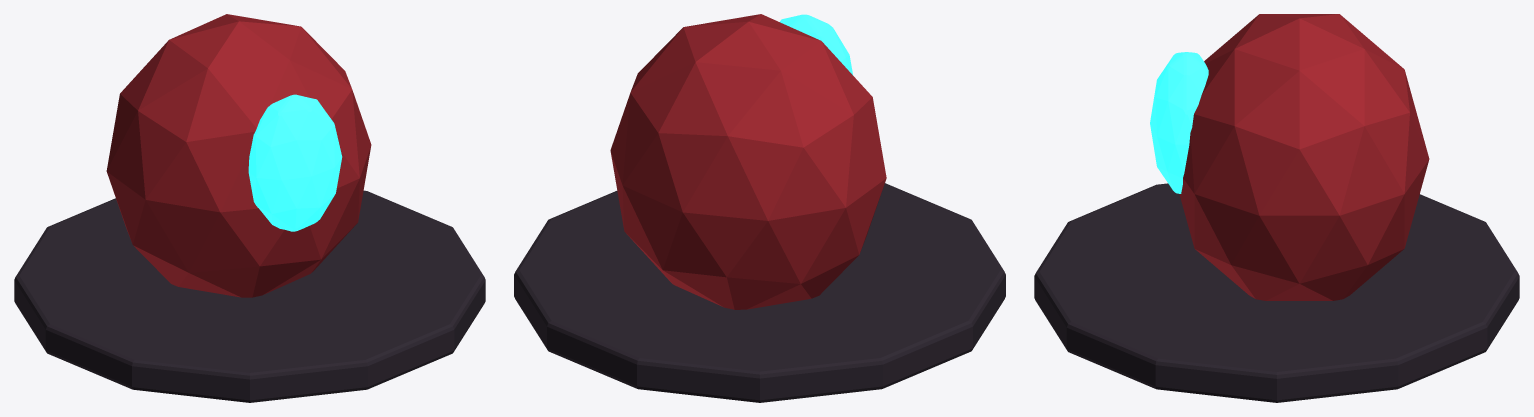
Rendered from alien_lab.glb.
The picture shows the model from 3 angles, left to right: view 1: azimuth 30°, elevation 25°; view 2: azimuth 150°, elevation 25°; view 3: azimuth 270°, elevation 25°; orthographic projection. The views are drawn at different scales.
Visible parts, largest first — view 1: Foundation, Archive, KnowledgeCore; view 2: Archive, Foundation, KnowledgeCore; view 3: Foundation, Archive, KnowledgeCore.
Boxes of the visible parts, x1,y1,x2,y2 form: Foundation: (14, 190, 485, 402); Archive: (106, 14, 371, 297); KnowledgeCore: (248, 94, 342, 231); Archive: (610, 14, 886, 309); Foundation: (514, 183, 1005, 402); KnowledgeCore: (780, 14, 853, 75); Foundation: (1034, 183, 1519, 402); Archive: (1179, 14, 1429, 300); KnowledgeCore: (1150, 52, 1208, 193).
Size of the model in its own units: 1.72 by 1.11 by 1.72.
